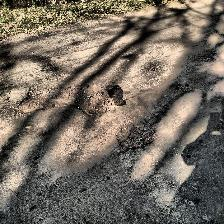pothole: (12, 82, 120, 118), (114, 119, 158, 148)
